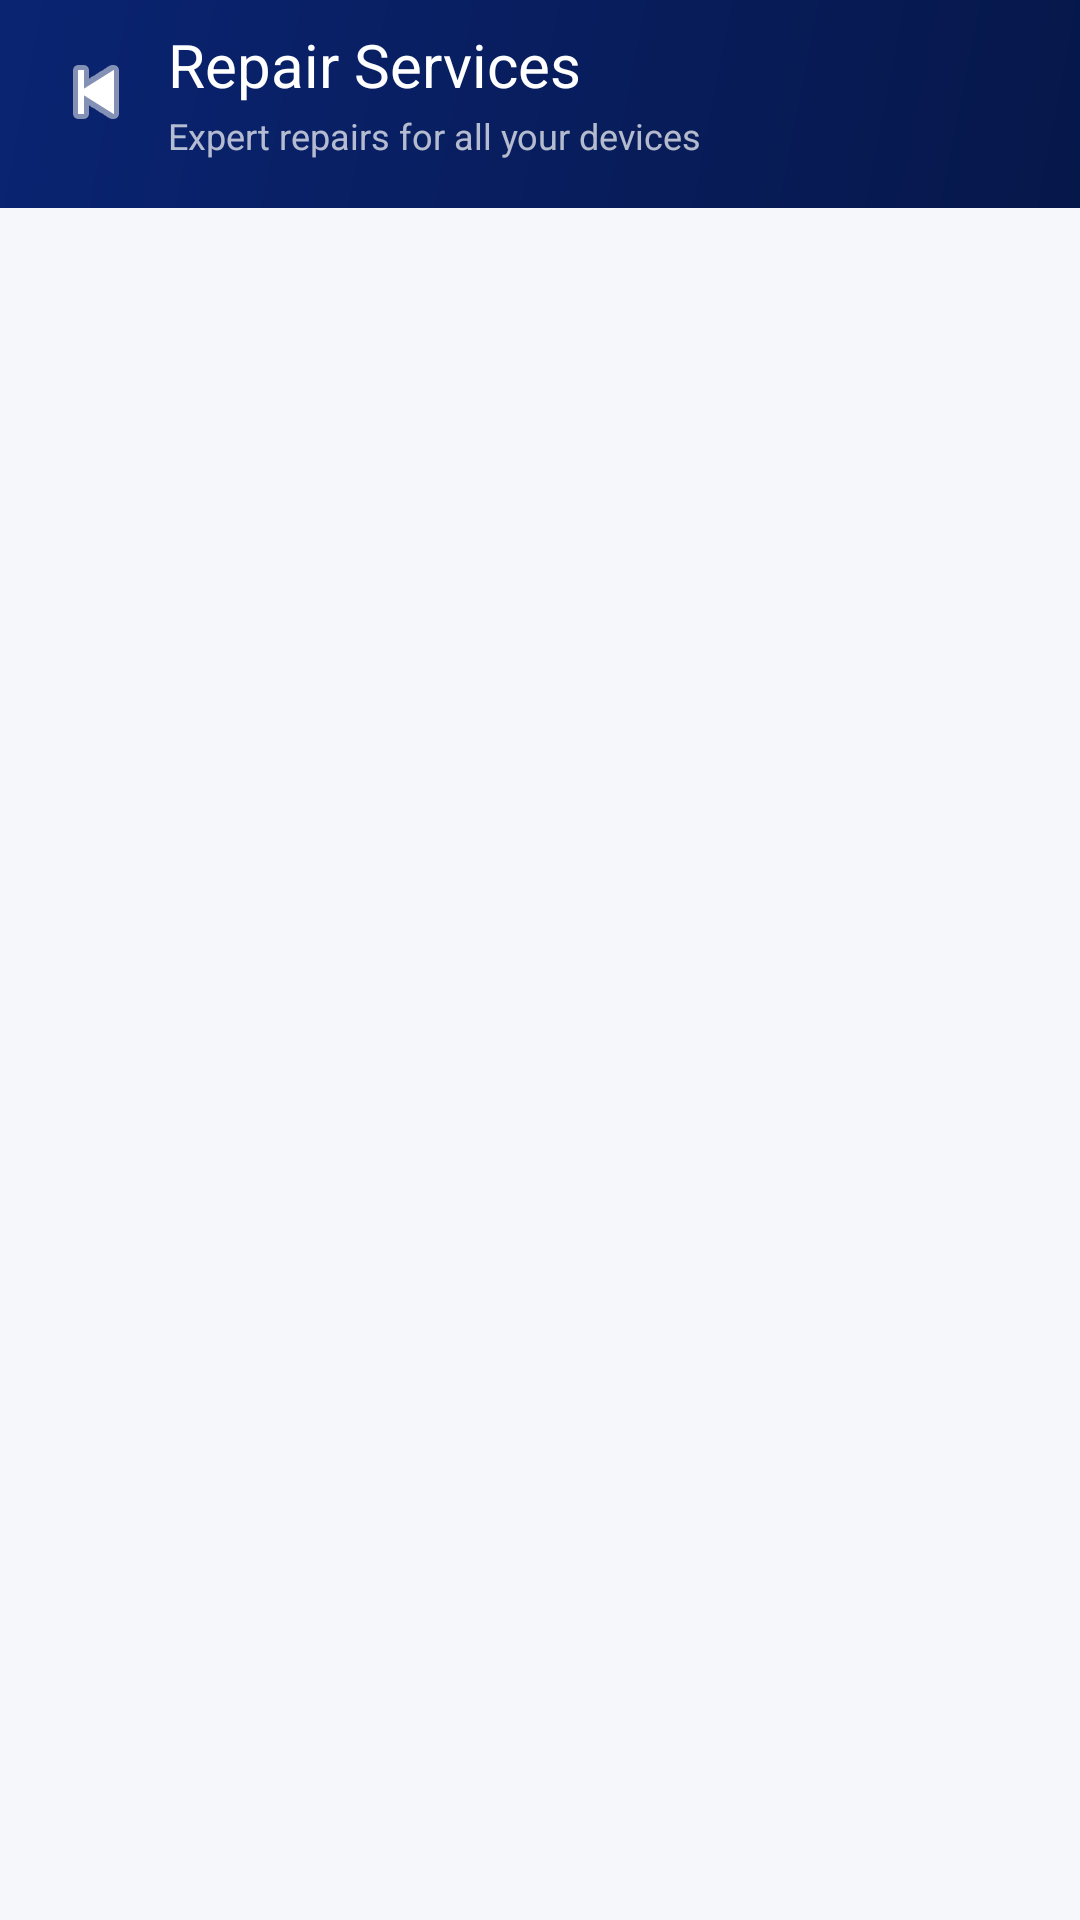

Screen size 1080 x 1920. Icon name, then its center in pixels as [x,y]:
previous: [96,92]
